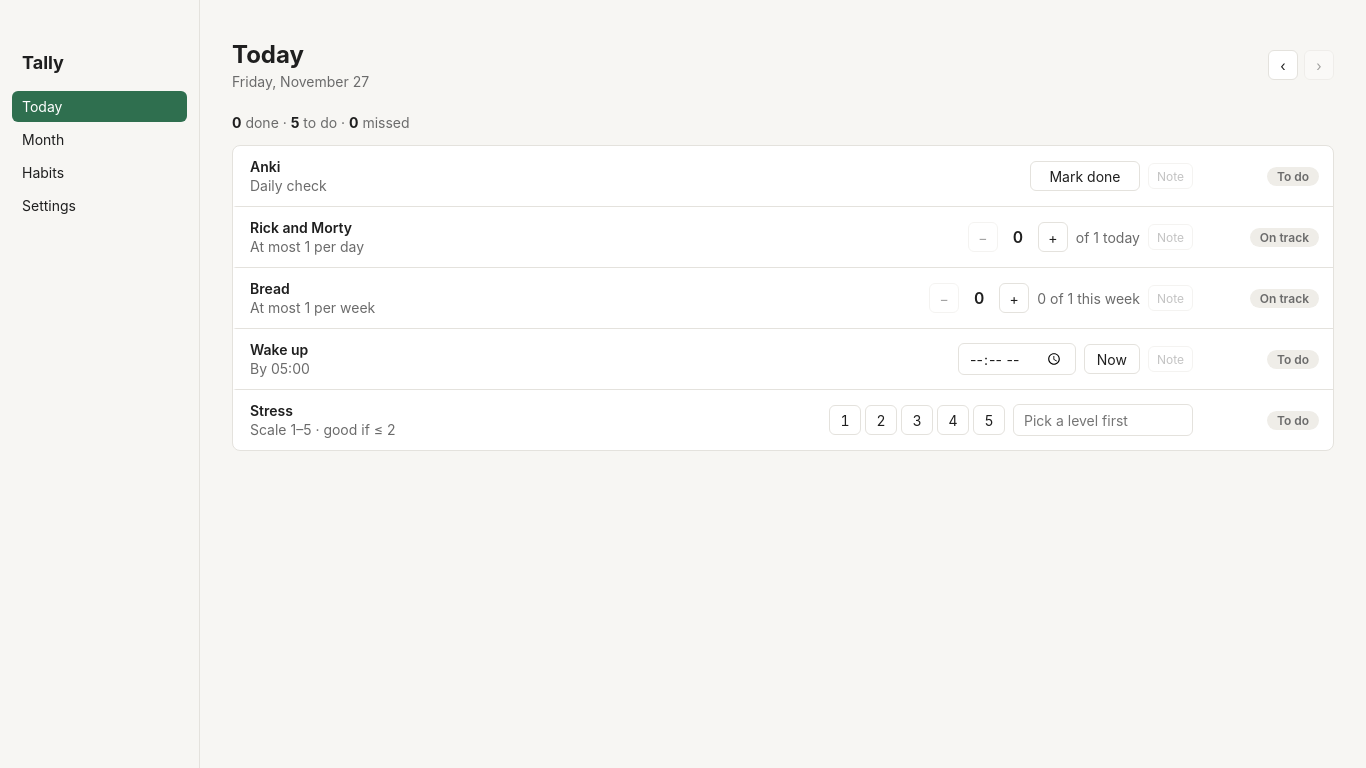
Test case: TodayPage › adds a note to a count and shows it on the row
Click the button named "Increase Rick and Morty". click: (1053, 237)
box: [1038,222,1068,252]
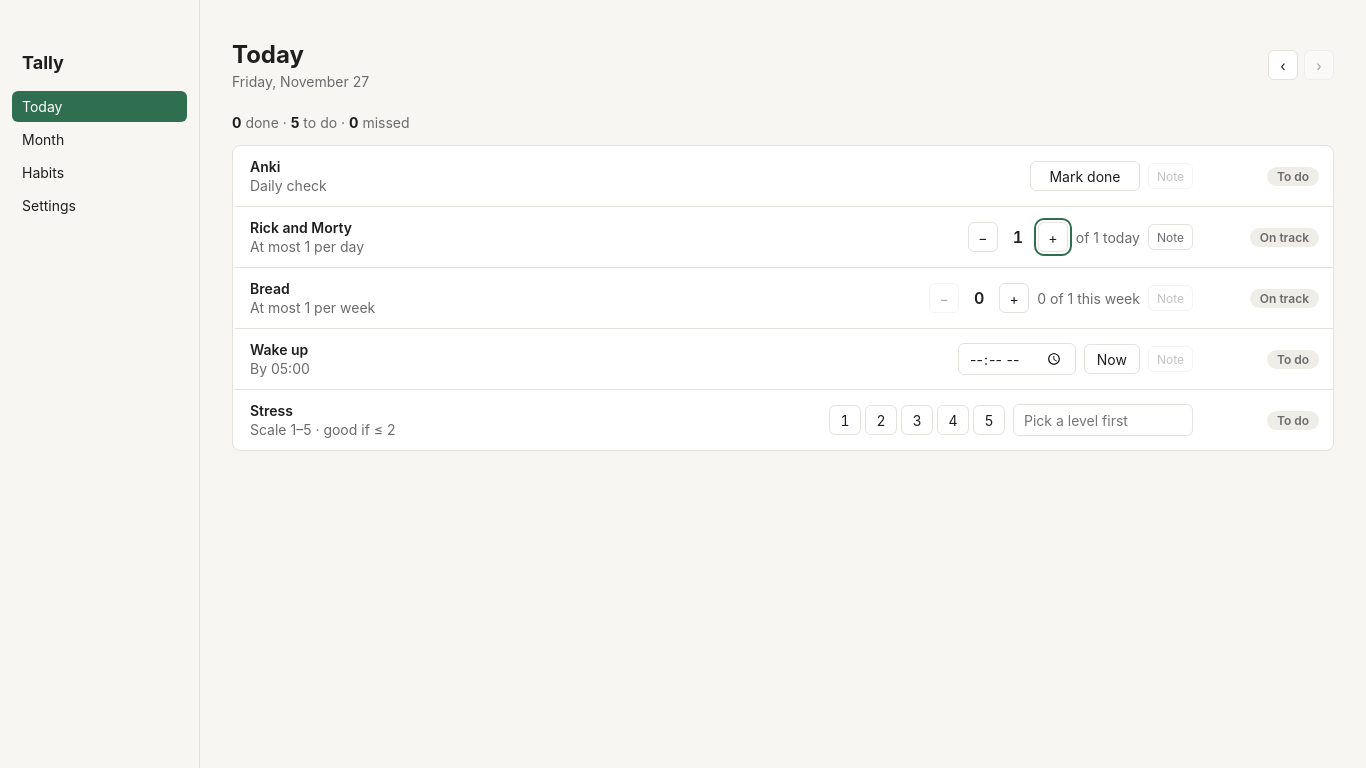
Click the button with aria-label "Add note for Rick and Morty". click: (1170, 237)
box: [1148,224,1193,250]
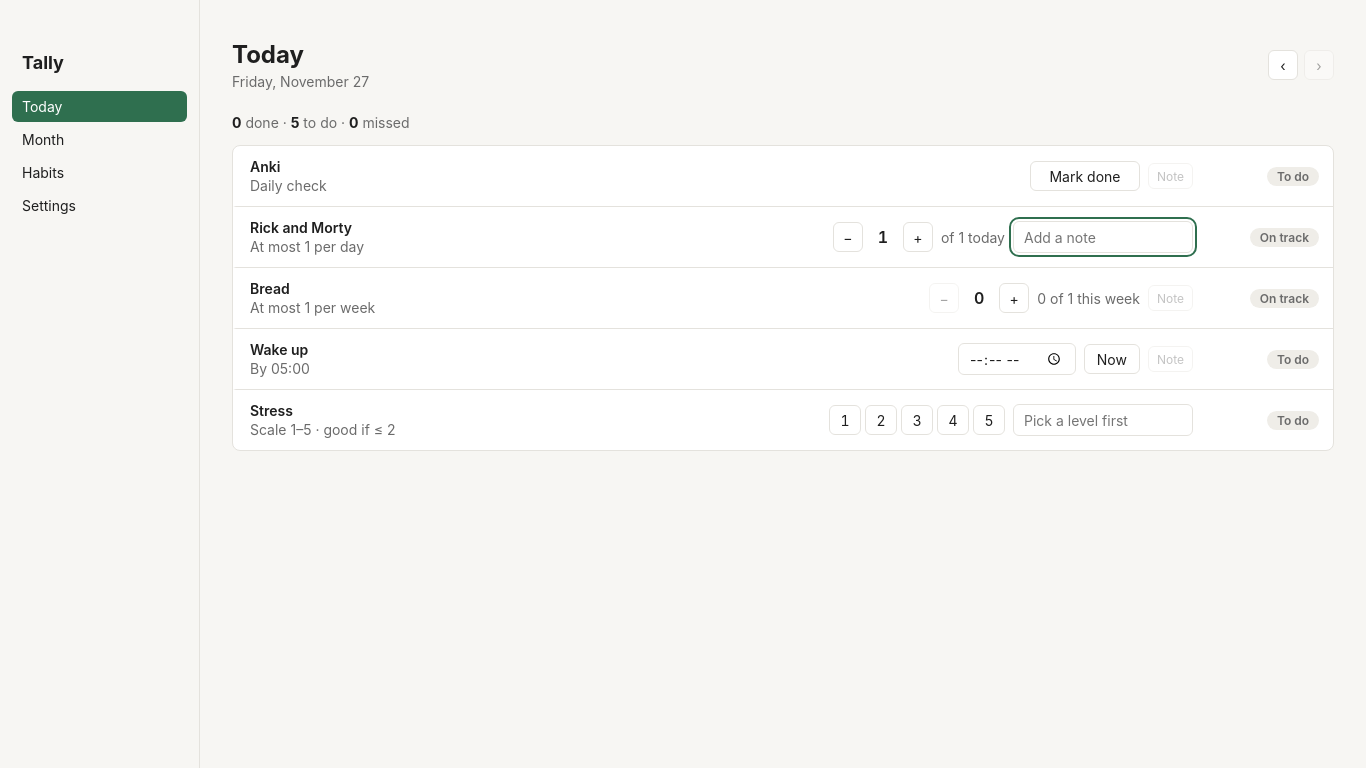
Type "Season finale" into the field named "Rick and Morty note". click: (1103, 237)
box: [1013,221,1193,253]
Then press Enter
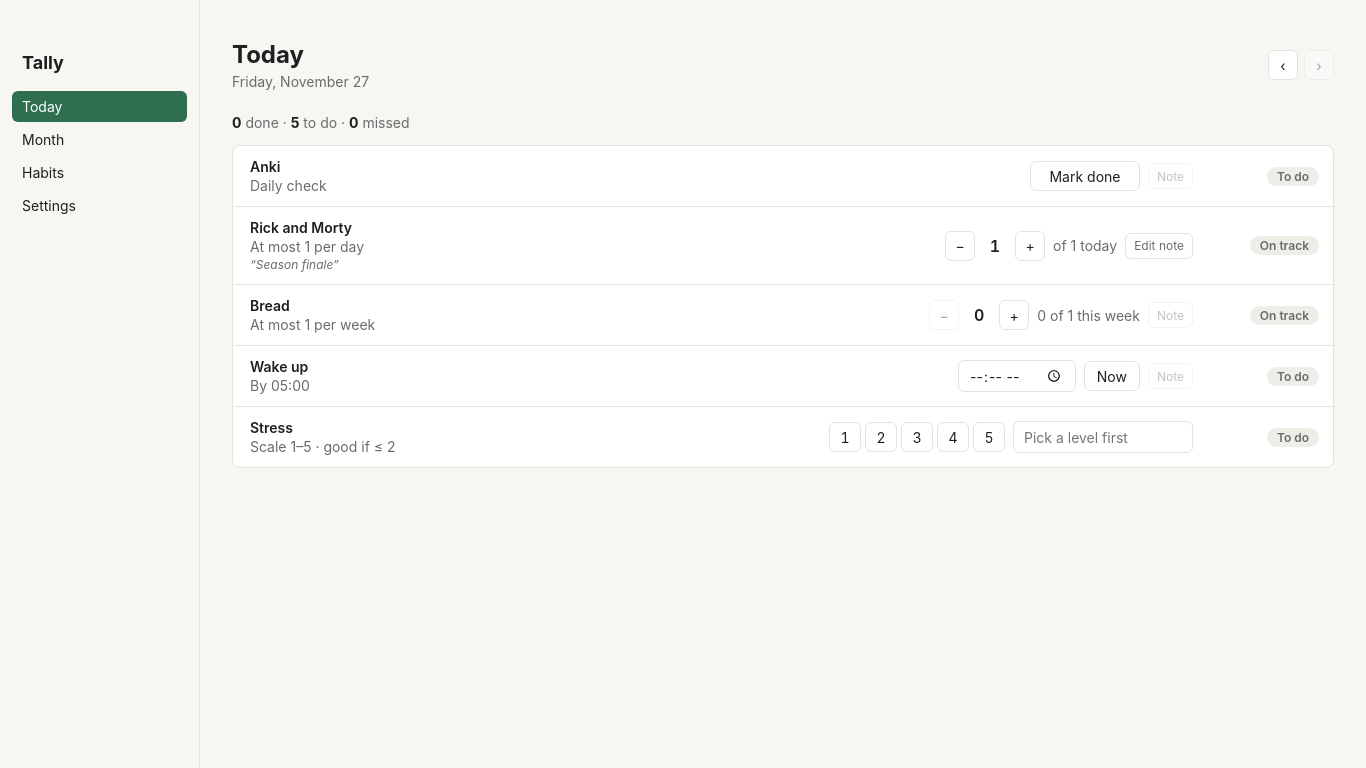
Expected: the text "“Season finale”" is shown, [250,257,339,272]
